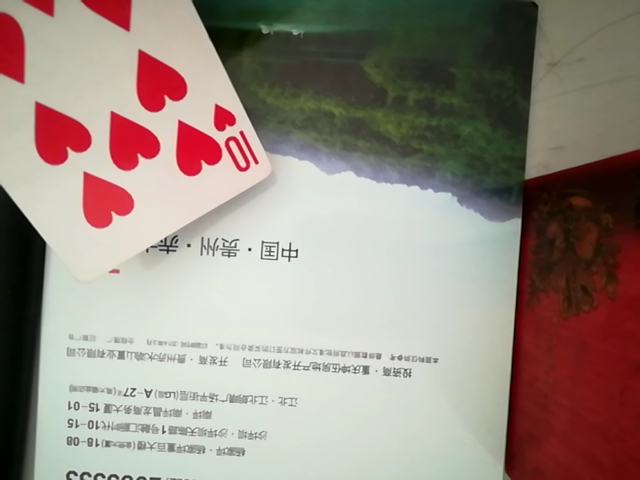hx 10: (3, 2, 273, 294)
